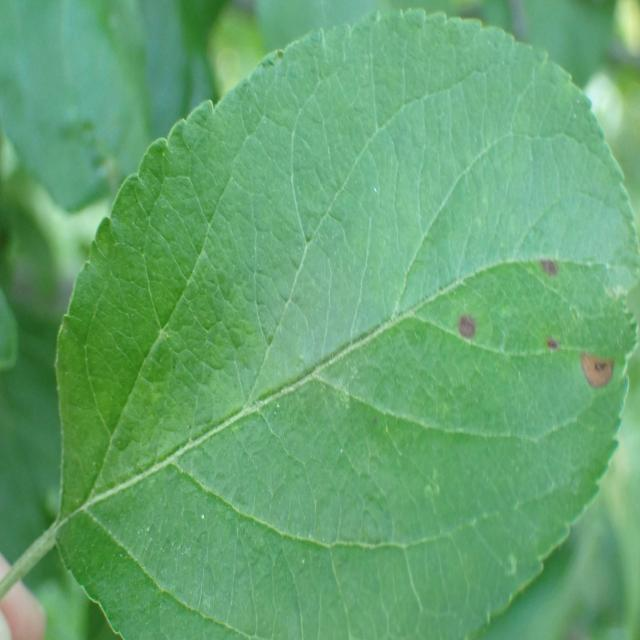Black Rot: (445, 297, 493, 357), (574, 349, 626, 404), (526, 233, 562, 286), (541, 324, 558, 362)
